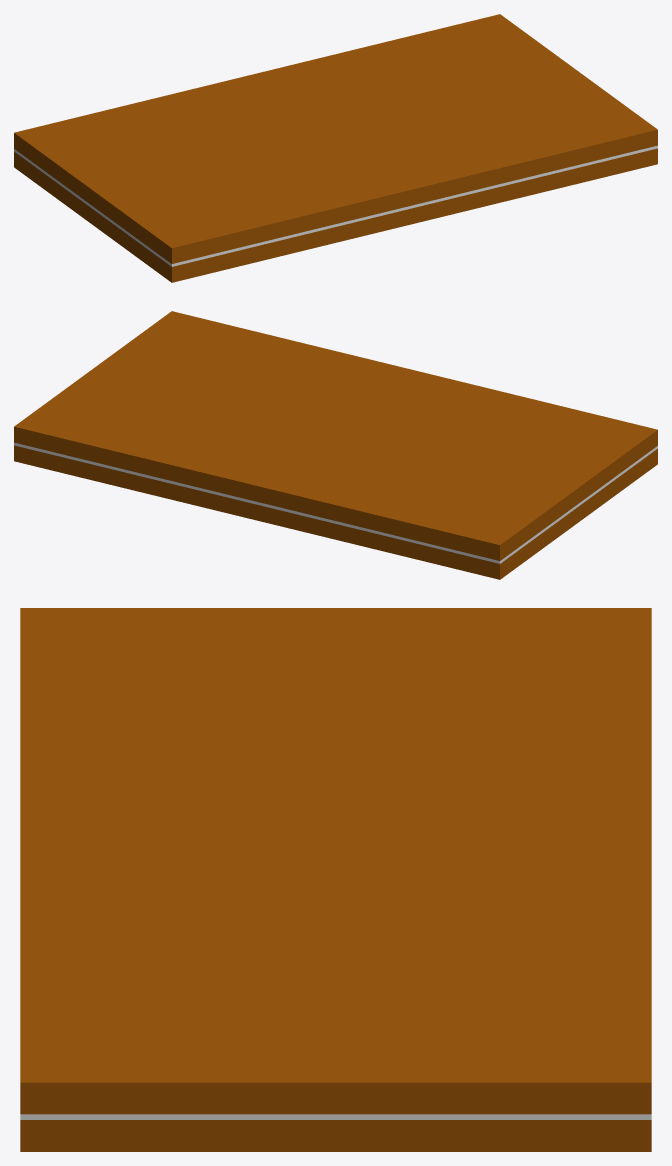
Rendered from Book.glb.
3 views of the same model, one above another, from view 1: azimuth 30°, elevation 25°; view 2: azimuth 150°, elevation 25°; view 3: azimuth 270°, elevation 25° (orthographic). The views are drawn at different scales.
Parts seen in each view (by area): view 1: CoverDown, CoverUp, Page1L, Page1R; view 2: CoverDown, CoverUp, Page1L, Page1R; view 3: CoverDown, CoverUp, Page1L, Page1R.
Part boxes in pixels (<box>): CoverDown: <box>14,14,657,263</box>; CoverUp: <box>14,148,657,282</box>; Page1L: <box>14,145,657,265</box>; Page1R: <box>14,147,657,266</box>; CoverDown: <box>14,311,657,560</box>; CoverUp: <box>14,445,657,579</box>; Page1L: <box>14,442,657,562</box>; Page1R: <box>14,444,657,563</box>; CoverDown: <box>20,608,651,1114</box>; CoverUp: <box>20,1120,651,1151</box>; Page1L: <box>20,1114,651,1117</box>; Page1R: <box>20,1117,651,1119</box>.
Bounding box in the file's own units: 2.11 × 0.1436 × 1.19.
